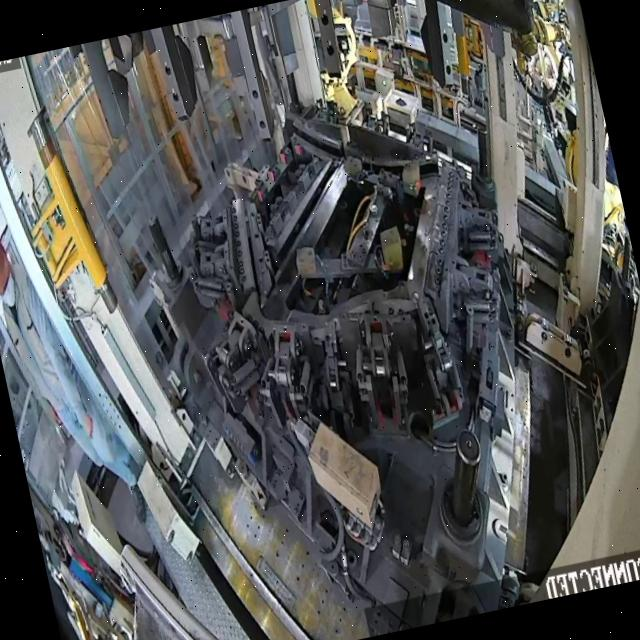Person: (0, 208, 152, 543), (590, 113, 624, 214)
